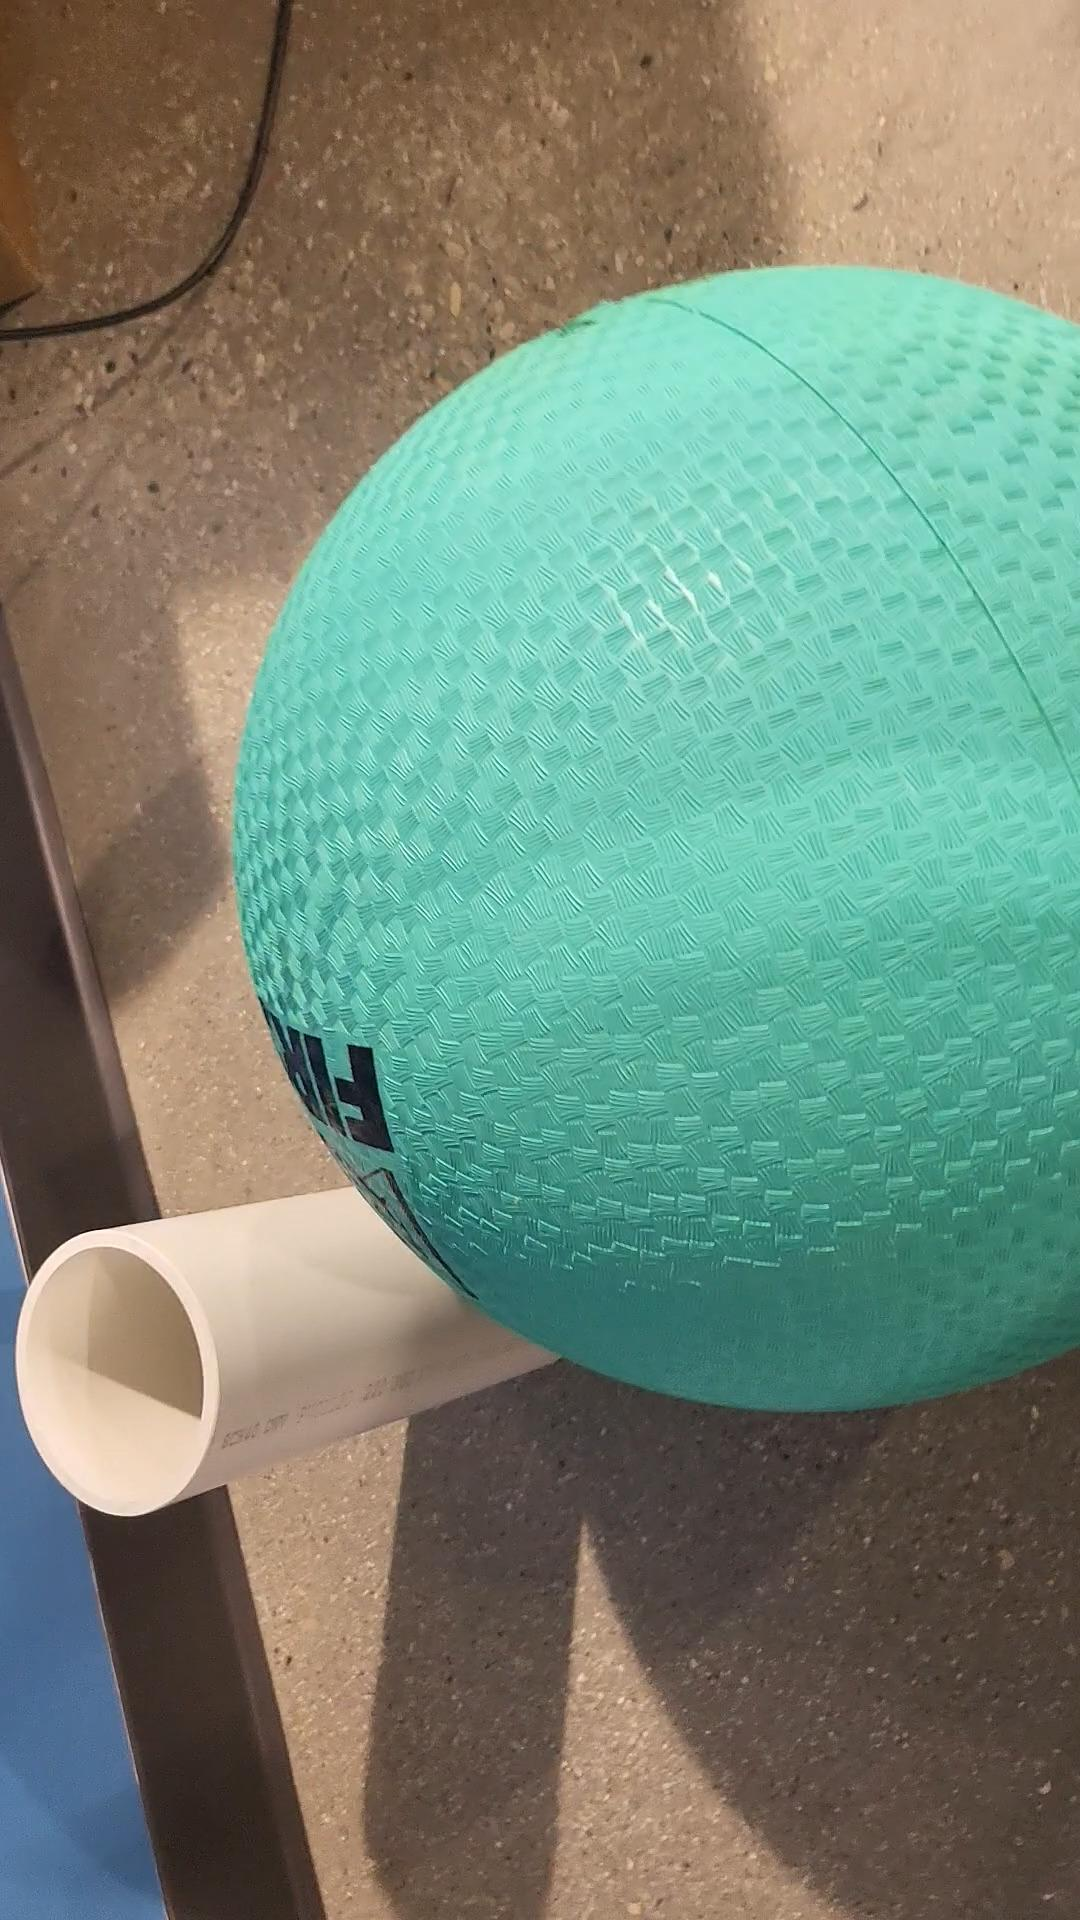algae: (237, 257, 1080, 1415)
coral: (20, 1180, 564, 1513)
